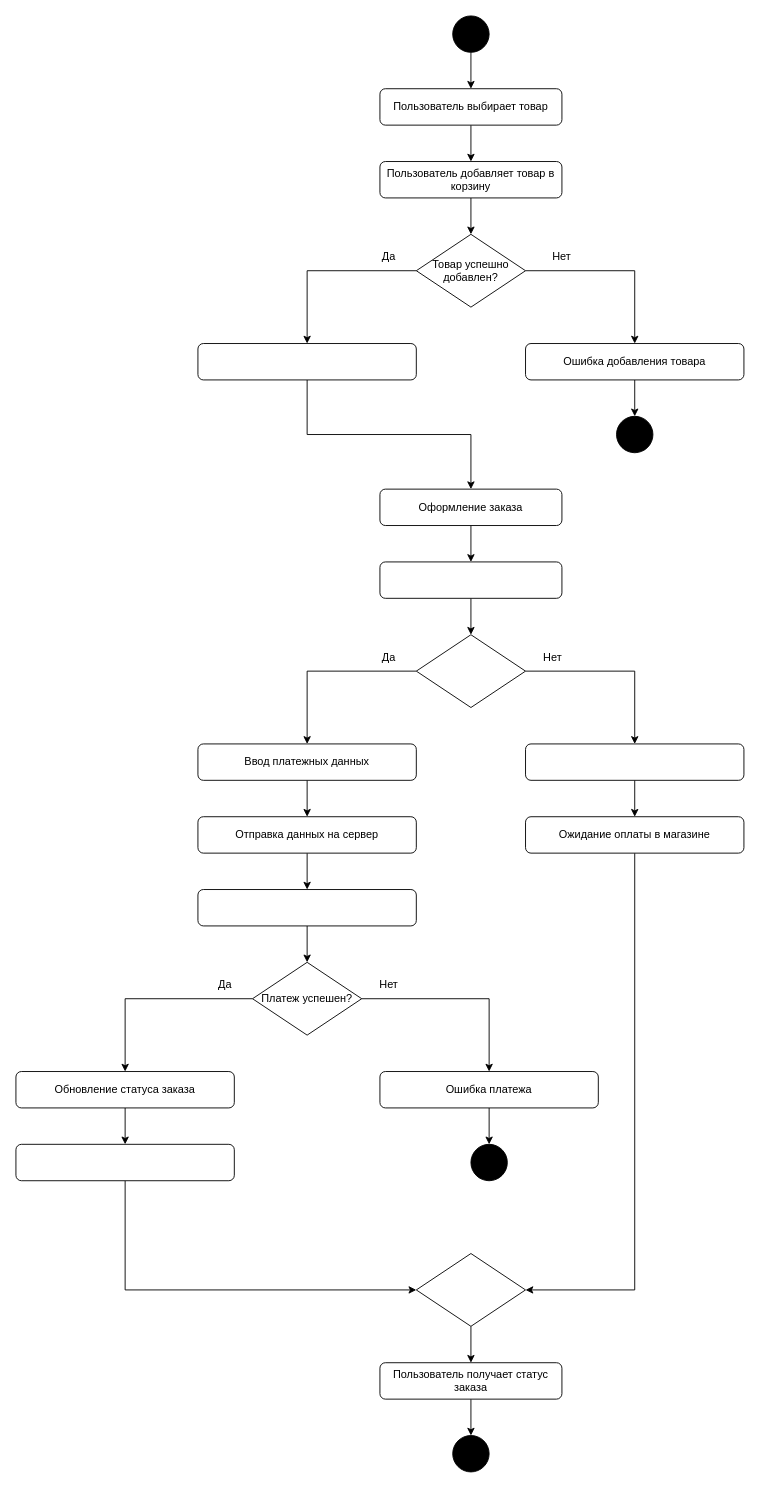
The diagram is 760 pixels wide and 1488 high, and some of its shapes have lost their labels. Each missing label, with the centre of its shape:
Выбор способа оплаты: point 470,579
Заказ оформлен без предоплаты: point 634,761
Обработка платежа: point 306,907
Оплата онлайн?: point 470,671
Отображение обновленной корзины: point 306,361
Подтверждение покупки: point 124,1162
